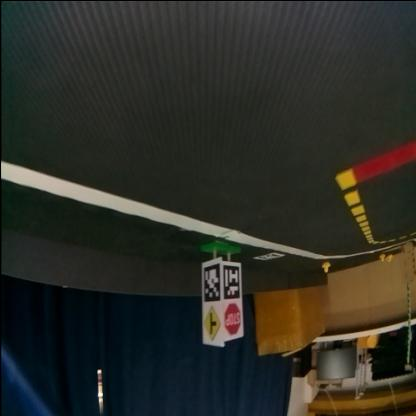Duckie: (322, 264, 330, 272), (379, 254, 385, 263), (386, 254, 392, 262)
Intersection sign: (204, 310, 220, 340)
QR code: (204, 262, 220, 300), (225, 265, 240, 298), (254, 252, 283, 260)
Stop sign: (224, 305, 242, 336)
